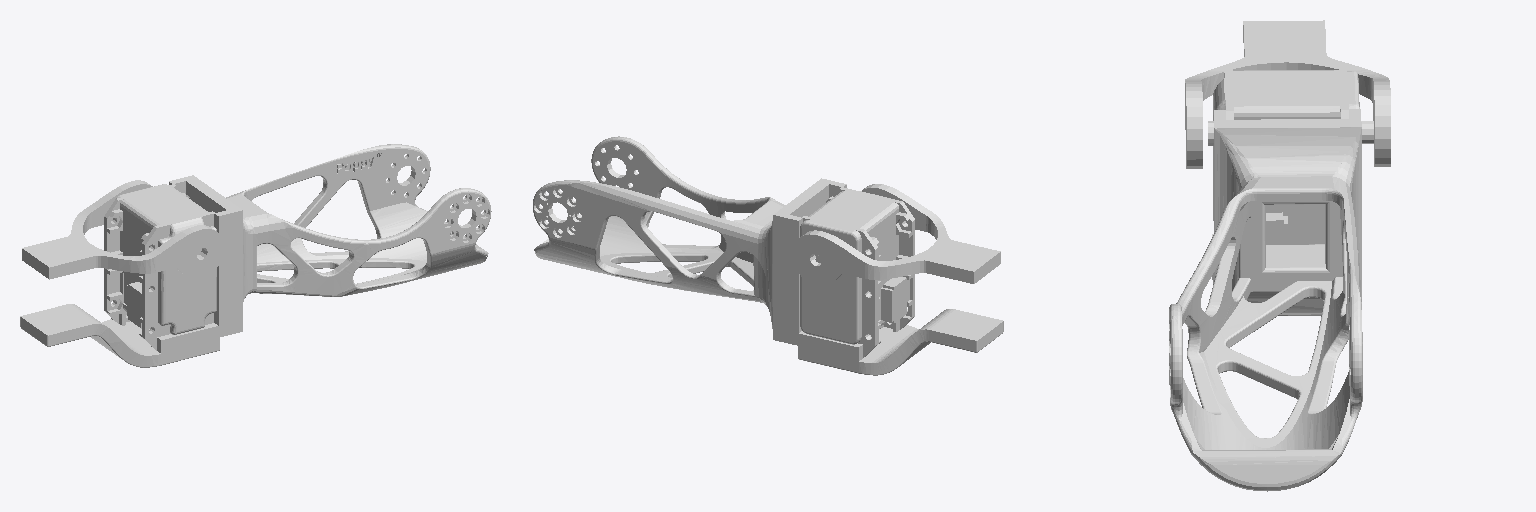
URDF robot description (Poppy_Torso):
<?xml version="1.0" encoding="utf-8"?>

<robot name="Poppy_Torso">
<link name="world"/>
<joint name="fixed" type="fixed">
        <parent link="world"/>
        <child link="base"/>
    </joint>
	<link name="base">
		<inertial>
			<origin xyz="-9.74926801495556E-06 0.0245809270022031 -0.0126310576435619" rpy="0 0 0"></origin>
			<mass value="0.304441048219244"></mass>
			<inertia ixx="0.000444379589701896" ixy="1.65486746667917E-08" ixz="-3.86276516415689E-09" iyy="0.00048561348802354" iyz="2.15649474149961E-05" izz="0.000421911604661064"></inertia>
		</inertial>
		<visual>
			<origin xyz="0 0 0" rpy="0 0 0"></origin>
			<geometry>
				<mesh filename="package://poppy_torso_description/meshes/base_visual.STL"></mesh>
			</geometry>
			<material name="">
				<color rgba="0.9 0.9 0.9 1.0"></color>
			</material>
		</visual>
		<collision>
			<origin xyz="0 0 0" rpy="0 0 0"></origin>
			<geometry>
				<mesh filename="package://poppy_torso_description/meshes/base_respondable.STL"></mesh>
			</geometry>
		</collision>
	</link>
	<link name="spine">
		<inertial>
			<origin xyz="-2.40411891850495E-07 0.0288451667347867 -0.0100975118547382" rpy="0 0 0"></origin>
			<mass value="0.0926815106655512"></mass>
			<inertia ixx="3.84763910015325E-05" ixy="-1.20593001730888E-09" ixz="-2.38589260905183E-10" iyy="2.7320514654861E-05" iyz="1.47490149318973E-06" izz="3.26595211965373E-05"></inertia>
		</inertial>
		<visual>
			<origin xyz="0 0 0" rpy="0 0 0"></origin>
			<geometry>
				<mesh filename="package://poppy_torso_description/meshes/spine_visual.STL"></mesh>
			</geometry>
			<material name="">
				<color rgba="0.9 0.9 0.9 1.0"></color>
			</material>
		</visual>
		<collision>
			<origin xyz="0 0 0" rpy="0 0 0"></origin>
			<geometry>
				<mesh filename="package://poppy_torso_description/meshes/spine_respondable.STL"></mesh>
			</geometry>
		</collision>
		<mass>0.09264</mass>
	</link>
	<link name="bust_motors">
		<inertial>
			<origin xyz="3.50872416629779E-05 0.0105220286877652 -0.0174331453843439" rpy="0 0 0"></origin>
			<mass value="0.158876054570625"></mass>
			<inertia ixx="0.000100953683249293" ixy="-3.89105307189684E-07" ixz="9.71749941401585E-08" iyy="8.94288410563621E-05" iyz="-1.31738255727689E-06" izz="4.26225972692235E-05"></inertia>
		</inertial>
		<visual>
			<origin xyz="0 0 0" rpy="0 0 0"></origin>
			<geometry>
				<mesh filename="package://poppy_torso_description/meshes/bust_motors_visual.STL"></mesh>
			</geometry>
			<material name="">
				<color rgba="0.9 0.9 0.9 1.0"></color>
			</material>
		</visual>
		<collision>
			<origin xyz="0 0 0" rpy="0 0 0"></origin>
			<geometry>
				<mesh filename="package://poppy_torso_description/meshes/bust_motors_respondable.STL"></mesh>
			</geometry>
		</collision>
		<mass>0.15889</mass>
	</link>
	<link name="chest">
		<inertial>
			<origin xyz="2.35256459143538E-06 0.0514948183080913 -0.0105463056982622" rpy="0 0 0"></origin>
			<mass value="0.262925523172723"></mass>
			<inertia ixx="0.000154597294293882" ixy="2.32304239504647E-08" ixz="-2.47140128362103E-08" iyy="0.000750952782458072" iyz="1.53530143139102E-06" izz="0.000688549998744818"></inertia>
		</inertial>
		<visual>
			<origin xyz="0 0 0" rpy="0 0 0"></origin>
			<geometry>
				<mesh filename="package://poppy_torso_description/meshes/chest_visual.STL"></mesh>
			</geometry>
			<material name="">
				<color rgba="0.9 0.9 0.9 1.0"></color>
			</material>
		</visual>
		<collision>
			<origin xyz="0 0 0" rpy="0 0 0"></origin>
			<geometry>
				<mesh filename="package://poppy_torso_description/meshes/chest_respondable.STL"></mesh>
			</geometry>
		</collision>
		<mass>0.27528</mass>
	</link>
	<link name="neck">
		<inertial>
			<origin xyz="-0.00147486363077957 0.00928455262636602 2.89600749219313E-06" rpy="0 0 0"></origin>
			<mass value="0.00588496516988365"></mass>
			<inertia ixx="7.25596636570396E-07" ixy="-9.29944216419538E-08" ixz="2.01438227027406E-10" iyy="2.33535976458607E-06" iyz="1.55383710797264E-11" izz="2.57395421284165E-06"></inertia>
		</inertial>
		<visual>
			<origin xyz="0 0 0" rpy="0 0 0"></origin>
			<geometry>
				<mesh filename="package://poppy_torso_description/meshes/neck_visual.STL"></mesh>
			</geometry>
			<material name="">
				<color rgba="0.9 0.9 0.9 1.0"></color>
			</material>
		</visual>
		<collision>
			<origin xyz="0 0 0" rpy="0 0 0"></origin>
			<geometry>
				<mesh filename="package://poppy_torso_description/meshes/neck_respondable.STL"></mesh>
			</geometry>
		</collision>
		<mass>0.00588</mass>
	</link>
	<link name="head">
		<inertial>
			<origin xyz="0.000557544173188459 0.0327437693305889 -0.0132545775103434" rpy="0 0 0"></origin>
			<mass value="0.188564323997503"></mass>
			<inertia ixx="0.000353329921483274" ixy="-2.17595216032547E-07" ixz="4.10678991843685E-06" iyy="0.000384587155295662" iyz="-2.16656424152966E-05" izz="0.000396626339401006"></inertia>
		</inertial>
		<visual>
			<origin xyz="0 0 0" rpy="0 0 0"></origin>
			<geometry>
				<mesh filename="package://poppy_torso_description/meshes/head_visual.STL"></mesh>
			</geometry>
			<material name="">
				<color rgba="0.9 0.9 0.9 1.0"></color>
			</material>
		</visual>
		<collision>
			<origin xyz="0 0 0" rpy="0 0 0"></origin>
			<geometry>
				<mesh filename="package://poppy_torso_description/meshes/head_respondable.STL"></mesh>
			</geometry>
		</collision>
		<mass>0.2126</mass>
	</link>
	<link name="l_shoulder">
		<inertial>
			<origin xyz="0.0105246491971973 0.00179805316216127 -0.00915201992957032" rpy="0 0 0"></origin>
			<mass value="0.00843598968780806"></mass>
			<inertia ixx="3.39606863056539E-06" ixy="-4.79545875245114E-08" ixz="2.95435354929514E-08" iyy="3.56726082486902E-06" iyz="1.00382310579659E-08" izz="1.84634806401887E-06"></inertia>
		</inertial>
		<visual>
			<origin xyz="0 0 0" rpy="0 0 0"></origin>
			<geometry>
				<mesh filename="package://poppy_torso_description/meshes/l_shoulder_visual.STL"></mesh>
			</geometry>
			<material name="">
				<color rgba="0.9 0.9 0.9 1.0"></color>
			</material>
		</visual>
		<collision>
			<origin xyz="0 0 0" rpy="0 0 0"></origin>
			<geometry>
				<mesh filename="package://poppy_torso_description/meshes/l_shoulder_respondable.STL"></mesh>
			</geometry>
		</collision>
		<mass>0.00838</mass>
	</link>
	<link name="l_shoulder_motor">
		<inertial>
			<origin xyz="2.25562237481797E-07 0.0125756739553211 0.00859826040204853" rpy="0 0 0"></origin>
			<mass value="0.0828144098443214"></mass>
			<inertia ixx="2.76486208811411E-05" ixy="1.32207552337974E-10" ixz="6.6889770978984E-10" iyy="1.64427853426986E-05" iyz="7.23401723852699E-07" izz="2.26416351010788E-05"></inertia>
		</inertial>
		<visual>
			<origin xyz="0 0 0" rpy="0 0 0"></origin>
			<geometry>
				<mesh filename="package://poppy_torso_description/meshes/l_shoulder_motor_visual.STL"></mesh>
			</geometry>
			<material name="">
				<color rgba="0.9 0.9 0.9 1.0"></color>
			</material>
		</visual>
		<collision>
			<origin xyz="0 0 0" rpy="0 0 0"></origin>
			<geometry>
				<mesh filename="package://poppy_torso_description/meshes/l_shoulder_motor_respondable.STL"></mesh>
			</geometry>
		</collision>
		<mass>0.08288</mass>
	</link>
	<link name="l_upper_arm">
		<inertial>
			<origin xyz="3.30518731642866E-05 0.0628256242231928 -0.0106376043749558" rpy="0 0 0"></origin>
			<mass value="0.168140859572398"></mass>
			<inertia ixx="0.000280827719319256" ixy="6.03218629893559E-07" ixz="3.24530722833658E-09" iyy="4.23293519917111E-05" iyz="3.11052764904881E-06" izz="0.000275916197869213"></inertia>
		</inertial>
		<visual>
			<origin xyz="0 0 0" rpy="0 0 0"></origin>
			<geometry>
				<mesh filename="package://poppy_torso_description/meshes/l_upper_arm_visual.STL"></mesh>
			</geometry>
			<material name="">
				<color rgba="0.9 0.9 0.9 1.0"></color>
			</material>
		</visual>
		<collision>
			<origin xyz="0 0 0" rpy="0 0 0"></origin>
			<geometry>
				<mesh filename="package://poppy_torso_description/meshes/l_upper_arm_respondable.STL"></mesh>
			</geometry>
		</collision>
		<mass>0.16814</mass>
	</link>
	<link name="l_forearm">
		<inertial>
			<origin xyz="0.00691480023011085 0.10715758721324 0.00499021473883754" rpy="0 0 0"></origin>
			<mass value="0.0486512481725727"></mass>
			<inertia ixx="0.000185803541823861" ixy="7.31763110936326E-06" ixz="-9.0080655878687E-08" iyy="1.51053240271383E-05" iyz="-1.35878077941956E-05" izz="0.000182745910584552"></inertia>
		</inertial>
		<visual>
			<origin xyz="0 0 0" rpy="0 0 0"></origin>
			<geometry>
				<mesh filename="package://poppy_torso_description/meshes/l_forearm_visual.STL"></mesh>
			</geometry>
			<material name="">
				<color rgba="0.9 0.9 0.9 1.0"></color>
			</material>
		</visual>
		<collision>
			<origin xyz="0 0 0" rpy="0 0 0"></origin>
			<geometry>
				<mesh filename="package://poppy_torso_description/meshes/l_forearm_respondable.STL"></mesh>
			</geometry>
		</collision>
		<mass>0.04863</mass>
	</link>
	<link name="r_shoulder">
		<inertial>
			<origin xyz="-0.0104970276721559 0.00172611065393897 -0.00916610067254806" rpy="0 0 0"></origin>
			<mass value="0.00848189714003649"></mass>
			<inertia ixx="3.40574097306283E-06" ixy="4.48540328143448E-08" ixz="-3.01046953764439E-08" iyy="3.57001060355875E-06" iyz="1.1601962064402E-08" izz="1.85571692853151E-06"></inertia>
		</inertial>
		<visual>
			<origin xyz="0 0 0" rpy="0 0 0"></origin>
			<geometry>
				<mesh filename="package://poppy_torso_description/meshes/r_shoulder_visual.STL"></mesh>
			</geometry>
			<material name="">
				<color rgba="0.9 0.9 0.9 1.0"></color>
			</material>
		</visual>
		<collision>
			<origin xyz="0 0 0" rpy="0 0 0"></origin>
			<geometry>
				<mesh filename="package://poppy_torso_description/meshes/r_shoulder_respondable.STL"></mesh>
			</geometry>
		</collision>
		<mass>0.00838</mass>
	</link>
	<link name="r_shoulder_motor">
		<inertial>
			<origin xyz="2.25562237481797E-07 0.0125756739553211 0.00859826040204864" rpy="0 0 0"></origin>
			<mass value="0.0828144098443213"></mass>
			<inertia ixx="2.76486208811411E-05" ixy="1.32207552352561E-10" ixz="6.68897709796528E-10" iyy="1.64427853426986E-05" iyz="7.23401723852708E-07" izz="2.26416351010787E-05"></inertia>
		</inertial>
		<visual>
			<origin xyz="0 0 0" rpy="0 0 0"></origin>
			<geometry>
				<mesh filename="package://poppy_torso_description/meshes/r_shoulder_motor_visual.STL"></mesh>
			</geometry>
			<material name="">
				<color rgba="0.9 0.9 0.9 1.0"></color>
			</material>
		</visual>
		<collision>
			<origin xyz="0 0 0" rpy="0 0 0"></origin>
			<geometry>
				<mesh filename="package://poppy_torso_description/meshes/r_shoulder_motor_respondable.STL"></mesh>
			</geometry>
		</collision>
		<mass>0.08288</mass>
	</link>
	<link name="r_upper_arm">
		<inertial>
			<origin xyz="-3.32548713521223E-05 0.0628256242258387 -0.0106376027333001" rpy="0 0 0"></origin>
			<mass value="0.16814085957724"></mass>
			<inertia ixx="0.000280827719414285" ixy="-6.03127767269455E-07" ixz="-3.86325402336742E-09" iyy="4.23293497956197E-05" iyz="3.11054354485249E-06" izz="0.00027591619563535"></inertia>
		</inertial>
		<visual>
			<origin xyz="0 0 0" rpy="0 0 0"></origin>
			<geometry>
				<mesh filename="package://poppy_torso_description/meshes/r_upper_arm_visual.STL"></mesh>
			</geometry>
			<material name="">
				<color rgba="0.9 0.9 0.9 1.0"></color>
			</material>
		</visual>
		<collision>
			<origin xyz="0 0 0" rpy="0 0 0"></origin>
			<geometry>
				<mesh filename="package://poppy_torso_description/meshes/r_upper_arm_respondable.STL"></mesh>
			</geometry>
		</collision>
		<mass>0.16814</mass>
	</link>
	<link name="r_forearm">
		<inertial>
			<origin xyz="-0.00691618587524222 0.107157908858058 0.00498983982891094" rpy="0 0 0"></origin>
			<mass value="0.0486511084909604"></mass>
			<inertia ixx="0.000185805096233415" ixy="-7.3225450436654E-06" ixz="9.10153472751173E-08" iyy="1.51060270748784E-05" iyz="-1.35866305828973E-05" izz="0.000182748555542486"></inertia>
		</inertial>
		<visual>
			<origin xyz="0 0 0" rpy="-1.57 0 -1.57"></origin>
			<geometry>
				<mesh filename="package://poppy_torso_description/meshes/forearm_grip_visual.STL"></mesh>
			</geometry>
			<material name="">
				<color rgba="0.9 0.9 0.9 1.0"></color>
			</material>
		</visual>
		<collision>
			<origin xyz="0 0 0" rpy="-3.14 0 0"></origin>
			<geometry>
				<mesh filename="package://poppy_torso_description/meshes/forearm_grip_respondable.STL"></mesh>
			</geometry>
		</collision>
		<mass>0.04863</mass>
	</link>
	<link name="r_gripper">
		<inertial>
			<origin xyz="-0.00691618587524222 0.107157908858058 0.00498983982891094" rpy="0 0 0"></origin>
			<mass value="0.0486511084909604"></mass>
			<inertia ixx="0.000185805096233415" ixy="-7.3225450436654E-06" ixz="9.10153472751173E-08" iyy="1.51060270748784E-05" iyz="-1.35866305828973E-05" izz="0.000182748555542486"></inertia>
		</inertial>
		<visual>
			<origin xyz="-0.0075 0 0" rpy="1.57 3.14 -1.57"></origin>
			<geometry>
				<mesh filename="package://poppy_torso_description/meshes/gripper_jaw_visual.STL"></mesh>
			</geometry>
			<material name="">
				<color rgba="0.9 0.9 0.9 1.0"></color>
			</material>
		</visual>
		<collision>
			<origin xyz="-0.0075 0 0" rpy="1.57 3.14 -1.57"></origin>
			<geometry>
				<mesh filename="package://poppy_torso_description/meshes/gripper_jaw_respondable.STL"></mesh>
			</geometry>
		</collision>
		<mass>0.04863</mass>
	</link>
	<joint name="abs_z" type="revolute">
		<origin xyz="0 0 0.08965" rpy="1.5708 1.1258E-18 0.018388"></origin>
		<parent link="base"></parent>
		<child link="spine"></child>
		<axis xyz="0 1 0"></axis>
		<limit lower="-1.3962634016" upper="1.3962634016" effort="3.1" velocity="7.0"></limit>
	</joint>
	<joint name="bust_y" type="revolute">
		<origin xyz="0 0.07985 0.00279999999999998" rpy="0 0 0"></origin>
		<parent link="spine"></parent>
		<child link="bust_motors"></child>
		<axis xyz="-1 0 0"></axis>
		<limit effort="3.1" lower="-1.16937059884" upper="0.471238898038" velocity="7.0"></limit>
	</joint>
	<joint name="bust_x" type="revolute">
		<origin xyz="0 0 0" rpy="0 0 0"></origin>
		<parent link="bust_motors"></parent>
		<child link="chest"></child>
		<axis xyz="0 0 1"></axis>
		<limit effort="3.1" lower="-0.698131700798" upper="0.698131700798" velocity="7.0"></limit>
	</joint>
	<joint name="head_z" type="revolute">
		<origin xyz="0 0.084 0.00499999999999996" rpy="0 0 0"></origin>
		<parent link="chest"></parent>
		<child link="neck"></child>
		<axis xyz="0 1 0"></axis>
		<limit effort="1.8" lower="-1.57079632679" upper="1.57079632679" velocity="10.0"></limit>
	</joint>
	<joint name="head_y" type="revolute">
		<origin xyz="0 0.0199999999999999 0" rpy="-0.349065850398866 0 0"></origin>
		<parent link="neck"></parent>
		<child link="head"></child>
		<axis xyz="-1 0 0"></axis>
		<limit effort="1.8" lower="-0.785398163397" upper="0.10471975512" velocity="10.0"></limit>
	</joint>
	<joint name="l_shoulder_y" type="revolute">
		<origin xyz="0.0771000000000001 0.0499999999999999 0.00399999999999997" rpy="-1.5707963267949 0 0"></origin>
		<parent link="chest"></parent>
		<child link="l_shoulder"></child>
		<axis xyz="1 0 0"></axis>
		<limit effort="3.1" lower="-2.09439510239" upper="2.70526034059" velocity="7.0"></limit>
	</joint>
	<joint name="l_shoulder_x" type="revolute">
		<origin xyz="0.0284 0 0" rpy="3.14159265358979 0 1.5707963267949"></origin>
		<parent link="l_shoulder"></parent>
		<child link="l_shoulder_motor"></child>
		<axis xyz="0 0 1"></axis>
		<limit effort="3.1" lower="-1.83259571459" upper="1.91986217719" velocity="7.0"></limit>
	</joint>
	<joint name="l_arm_z" type="revolute">
		<origin xyz="0 0.03625 0.0185000000000001" rpy="0 0 0"></origin>
		<parent link="l_shoulder_motor"></parent>
		<child link="l_upper_arm"></child>
		<axis xyz="0 1 0"></axis>
		<limit effort="3.1" lower="-1.83259571459" upper="1.83259571459" velocity="7.0"></limit>
	</joint>
	<joint name="l_elbow_y" type="revolute">
		<origin xyz="0 0.11175 -0.00999999999999998" rpy="0 0 0"></origin>
		<parent link="l_upper_arm"></parent>
		<child link="l_forearm"></child>
		<axis xyz="1 0 0"></axis>
		<limit effort="3.1" lower="-2.58308729295" upper="0.0174532925199" velocity="7.0"></limit>
	</joint>
	<joint name="r_shoulder_y" type="revolute">
		<origin xyz="-0.0770999999999999 0.0500000000000002 0.00400000000000003" rpy="-1.5707963267949 0 0"></origin>
		<parent link="chest"></parent>
		<child link="r_shoulder"></child>
		<axis xyz="-1 0 0"></axis>
		<limit effort="3.1" lower="-2.70526034059" upper="2.09439510239" velocity="7.0"></limit>
	</joint>
	<joint name="r_shoulder_x" type="revolute">
		<origin xyz="-0.0284 0 0" rpy="3.14159265358979 0 -1.5707963267949"></origin>
		<parent link="r_shoulder"></parent>
		<child link="r_shoulder_motor"></child>
		<axis xyz="0 0 -1"></axis>
		<limit effort="3.1" lower="-1.91986217719" upper="1.83259571459" velocity="7.0"></limit>
	</joint>
	<joint name="r_arm_z" type="revolute">
		<origin xyz="0 0.03625 0.0185000000000002" rpy="0 0 0"></origin>
		<parent link="r_shoulder_motor"></parent>
		<child link="r_upper_arm"></child>
		<axis xyz="0 1 0"></axis>
		<limit effort="3.1" lower="-1.83259571459" upper="1.83259571459" velocity="7.0"></limit>
	</joint>
	<joint name="r_elbow_y" type="revolute">
		<origin xyz="0 0.11175 -0.01" rpy="0 0 0"></origin>
		<parent link="r_upper_arm"></parent>
		<child link="r_forearm"></child>
		<axis xyz="-1 0 0"></axis>
		<limit effort="3.1" lower="-0.0174532925199" upper="2.58308729295" velocity="7.0"></limit>
	</joint>
	<joint name="r_gripper_y" type="revolute">
		<origin xyz="0 0.11175 -0.01" rpy="0 0 0"></origin>
		<parent link="r_forearm"></parent>
		<child link="r_gripper"></child>
		<axis xyz="-1 0 0"></axis>
		<limit effort="3.1" lower="-0.0174532925199" upper="2.58308729295" velocity="7.0"></limit>
	</joint>
</robot>

--- Facts derived from the render (not from the file) ---
The picture shows the robot from 3 angles, left to right: view 1: azimuth 30°, elevation 25°; view 2: azimuth 150°, elevation 25°; view 3: azimuth 270°, elevation 25°; orthographic projection.
Model Poppy_Torso with 16 links and 15 joints (14 revolute, 1 fixed), rooted at world, posed all joints at 0.
Visible links, largest first — view 1: r_forearm, r_gripper; view 2: r_forearm, r_gripper; view 3: r_forearm, r_gripper.
Link boxes in pixels (x1,y1,x2,y2): r_forearm: (20,144,491,367); r_gripper: (22,180,224,279); r_forearm: (533,136,1003,375); r_gripper: (792,184,1000,285); r_forearm: (1169,66,1373,491); r_gripper: (1185,20,1390,168).
Bounding box of the posed robot: 0.1863 × 0.0544 × 0.0556 m (x, y, z).
Meshes: 15 distinct files referenced, 2 mesh visuals loaded (2 binary STL); not drawn: 13 (reference not matched to a file when rendering).